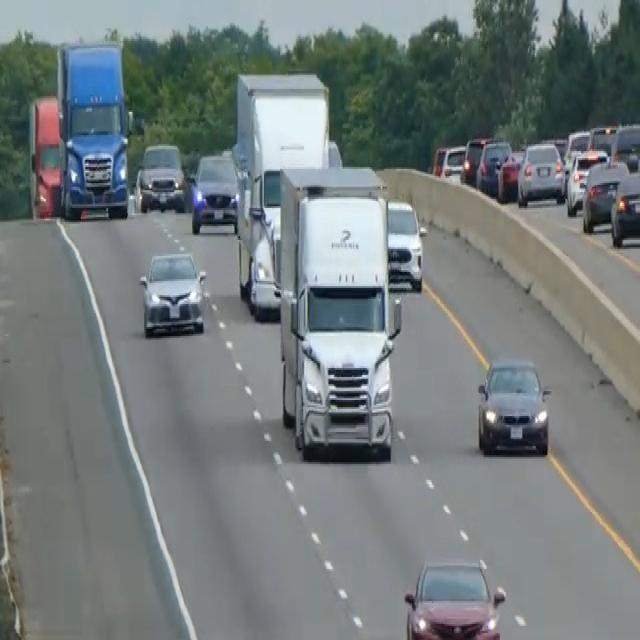car: (403, 555, 506, 638), (476, 354, 551, 457), (138, 249, 208, 338), (190, 151, 238, 233), (134, 140, 187, 213), (581, 156, 629, 233), (386, 198, 425, 292), (516, 139, 565, 206), (565, 148, 608, 215), (609, 169, 639, 247), (475, 137, 511, 194), (495, 147, 523, 201), (460, 133, 489, 185), (610, 121, 639, 172), (588, 123, 617, 158), (441, 144, 466, 180), (432, 142, 447, 176)
lorry: (275, 162, 402, 460), (55, 38, 131, 220)
